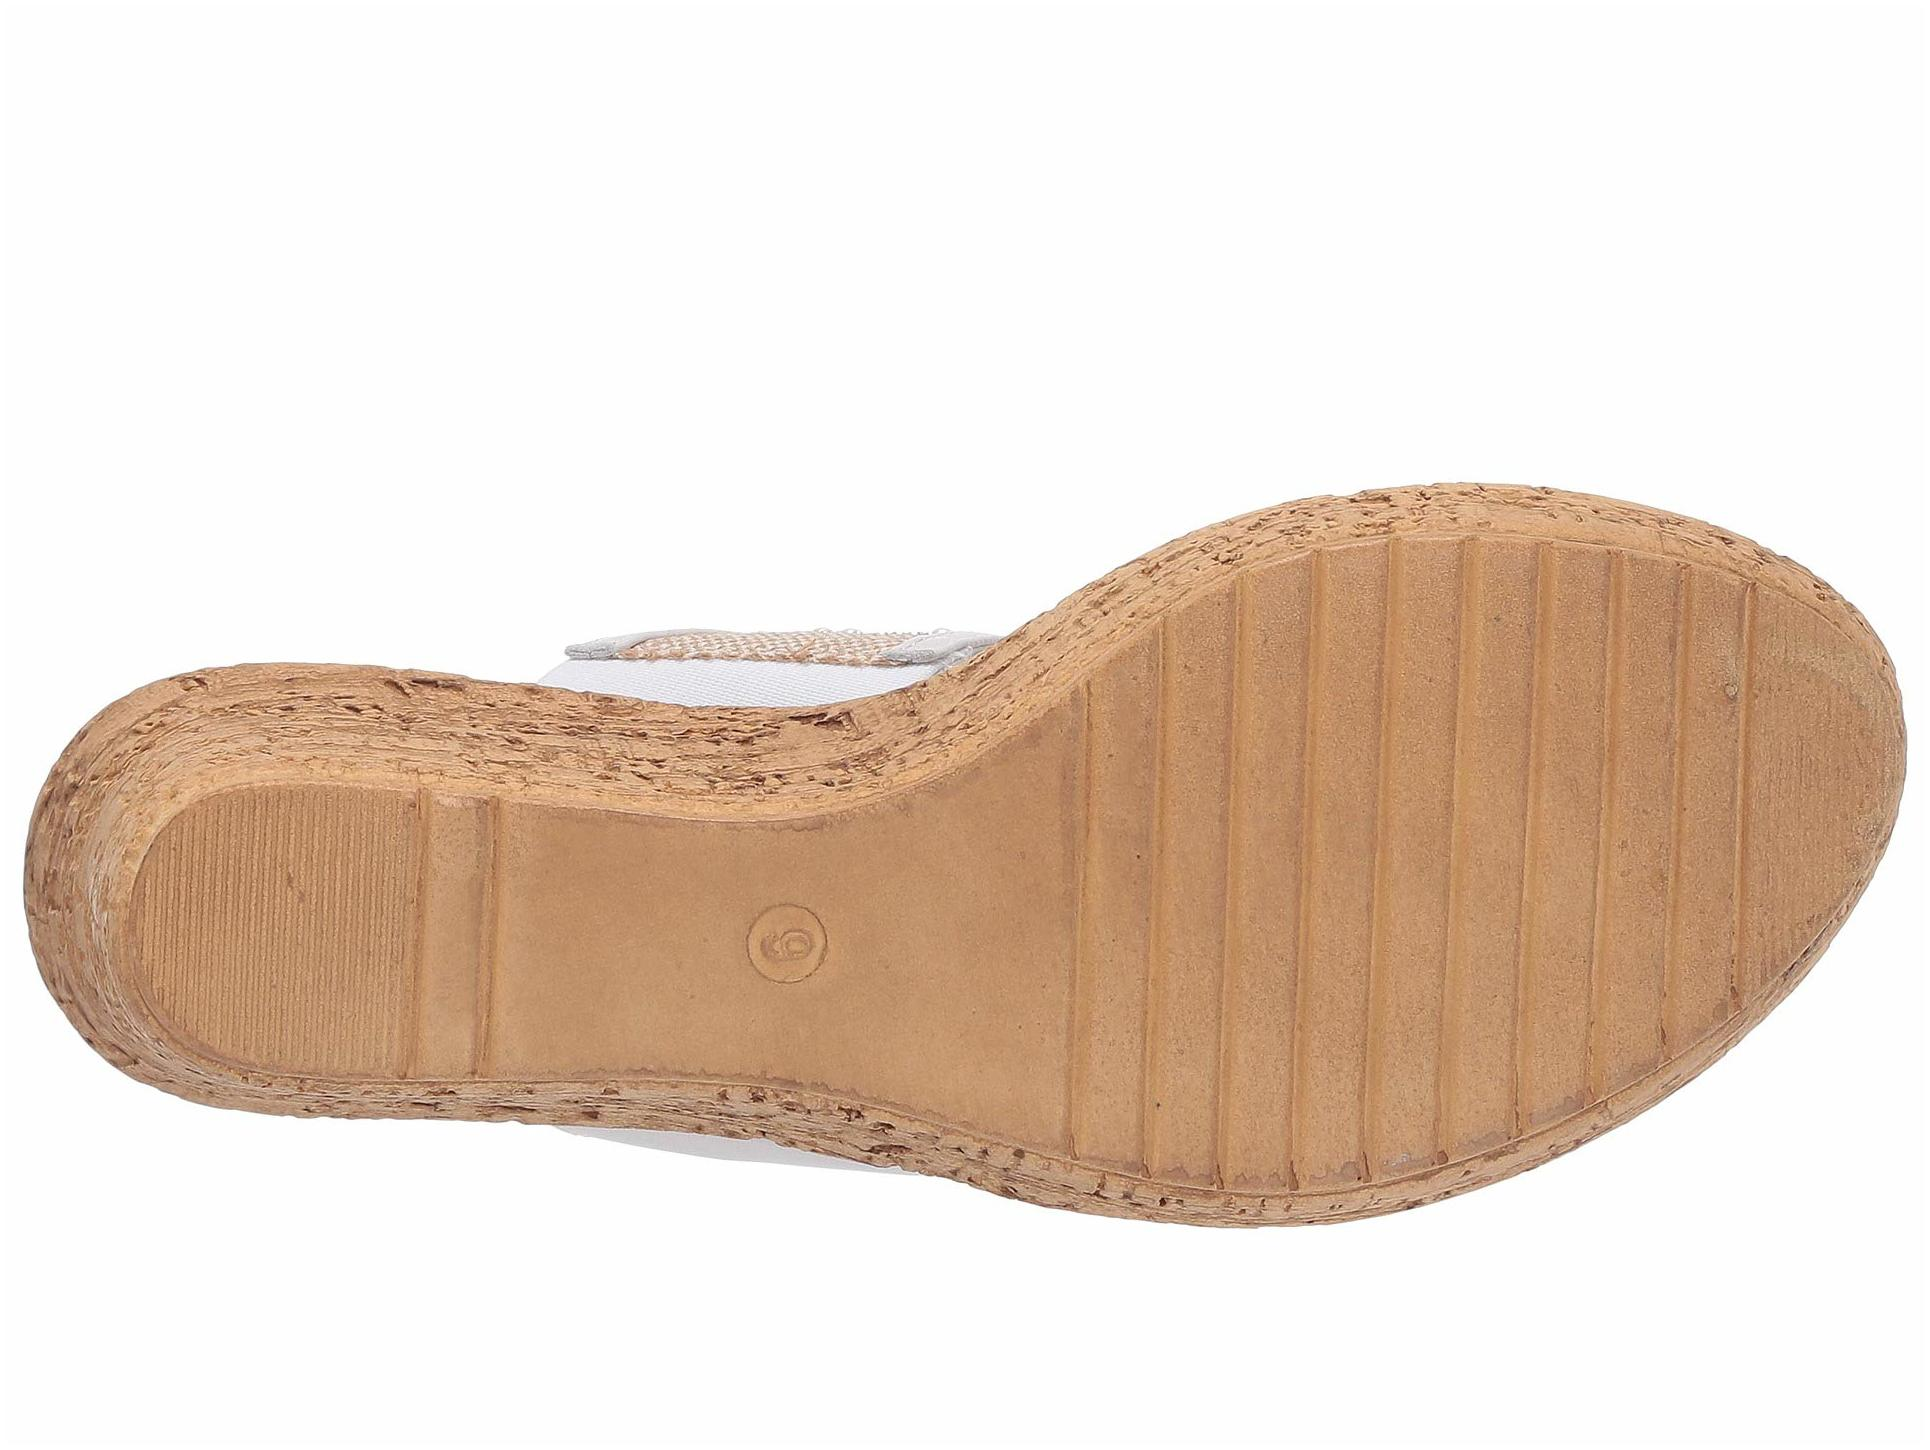circle: (660, 838, 937, 1007)
line: (1229, 672, 1578, 1008)
text: (660, 838, 937, 1007)
